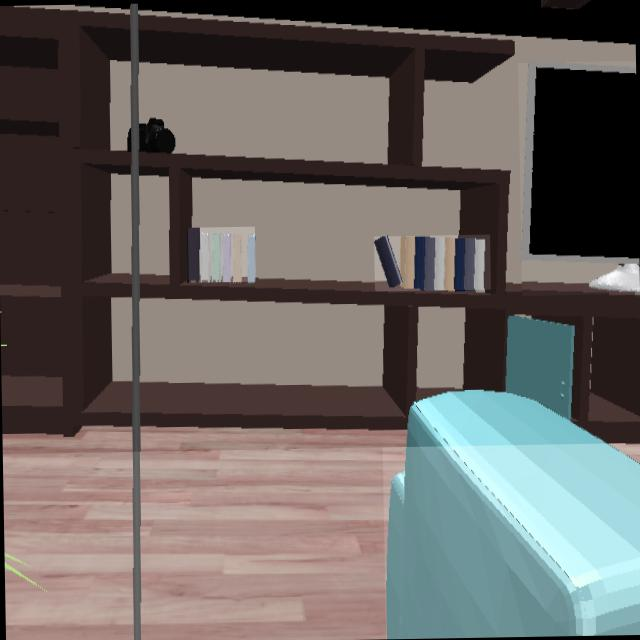book: (375, 236, 489, 289), (187, 227, 255, 281)
bookshelf: (0, 3, 640, 442)
monitor: (521, 63, 640, 293)
sofa: (385, 390, 640, 639)
